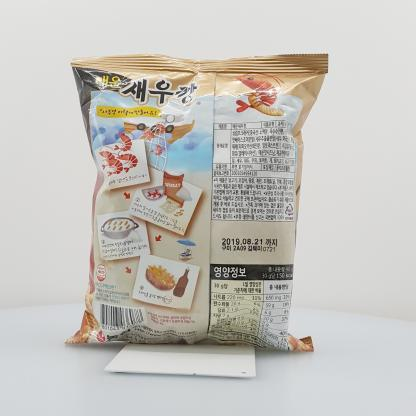Plastic Packaging: (58, 46, 336, 362)
